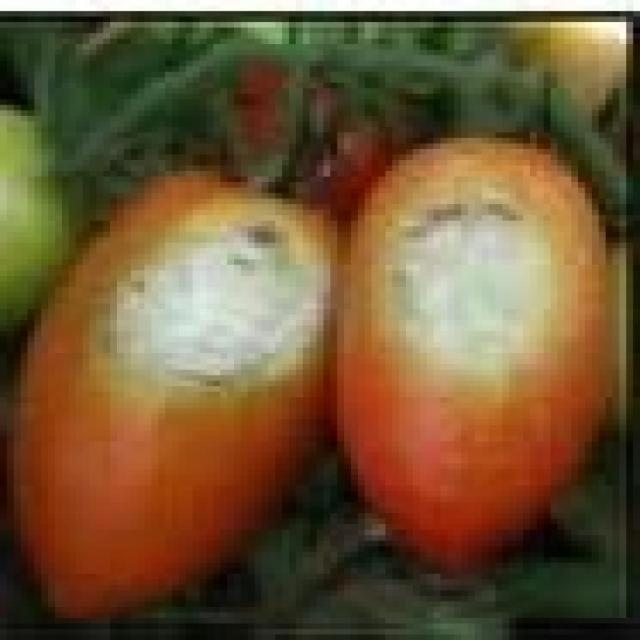Sunscald Fruit: (140, 133, 317, 200)
